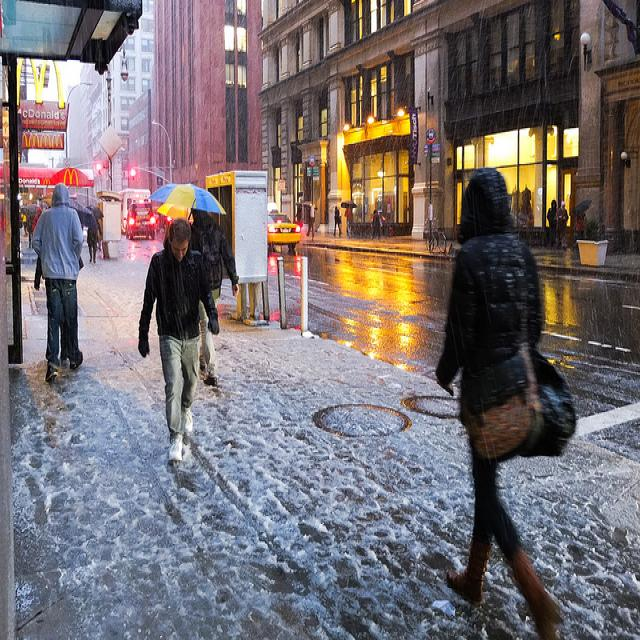Vehicle: (267, 212, 302, 245), (125, 202, 155, 240)
